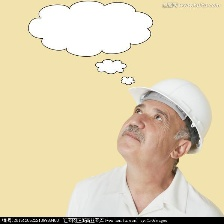helmet: (124, 77, 214, 158)
